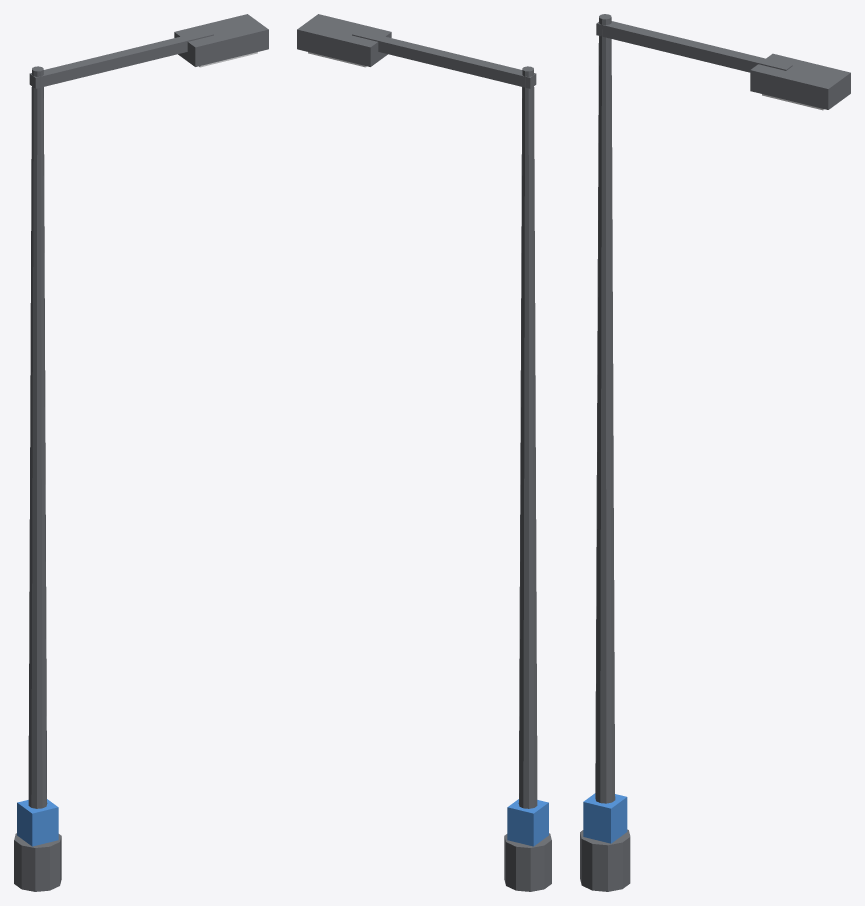
File: Streetlight_01.fbx
3 views of the same model, side by side, from view 1: azimuth 30°, elevation 25°; view 2: azimuth 150°, elevation 25°; view 3: azimuth 330°, elevation 25° (orthographic). The views are drawn at different scales.
Parts seen in each view (by area): view 1: Streetlight_01_Trim, Streetlight_01_Accent; view 2: Streetlight_01_Trim, Streetlight_01_Accent; view 3: Streetlight_01_Trim, Streetlight_01_Accent.
Boxes of the visible parts, left/top/right/bottom form: Streetlight_01_Trim: left=14, top=14, right=268, bottom=891; Streetlight_01_Accent: left=17, top=799, right=58, bottom=846; Streetlight_01_Trim: left=297, top=14, right=551, bottom=891; Streetlight_01_Accent: left=507, top=799, right=548, bottom=846; Streetlight_01_Trim: left=580, top=14, right=850, bottom=891; Streetlight_01_Accent: left=583, top=793, right=627, bottom=843.
Size of the model in its own units: 2.29 by 7.4 by 0.4.
